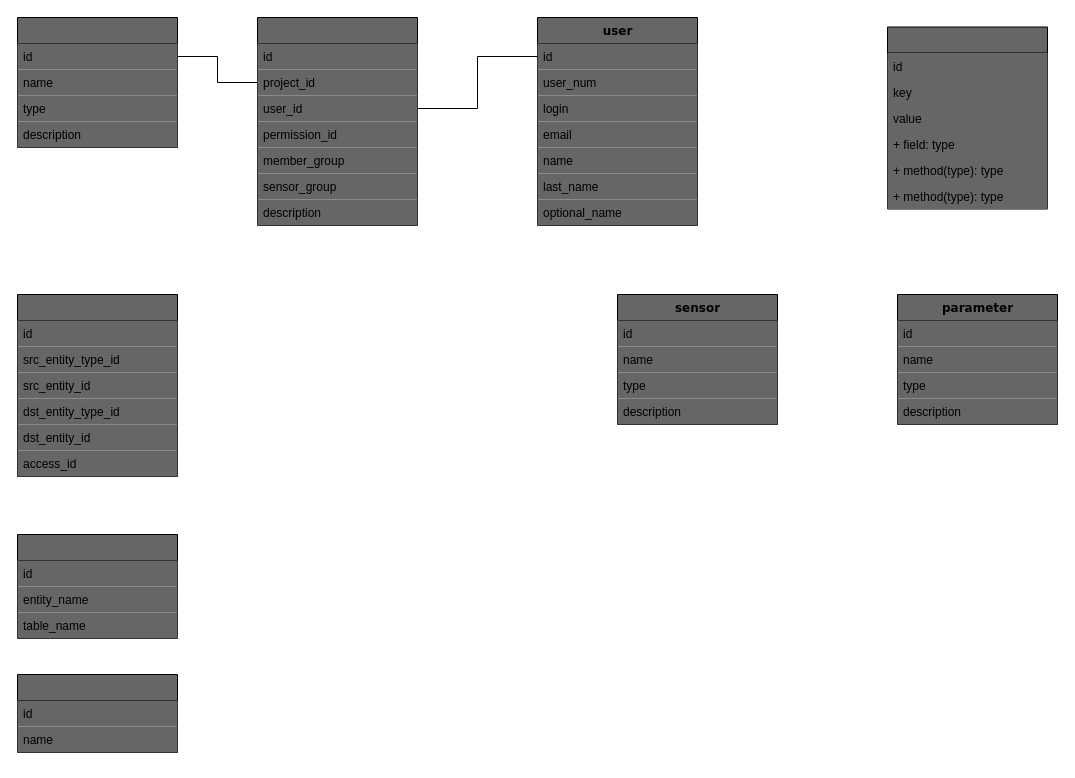
The diagram is 1075 pixels wide and 778 high, and some of its shapes have lost their labels. The box of each missing label's shape, as (x1, y1, x2, y2) in pixels:
access: (16, 674, 178, 752)
attribute: (886, 26, 1048, 209)
entity_type: (16, 534, 178, 638)
permission: (16, 294, 178, 476)
project: (16, 16, 178, 148)
project_user: (256, 16, 418, 226)
